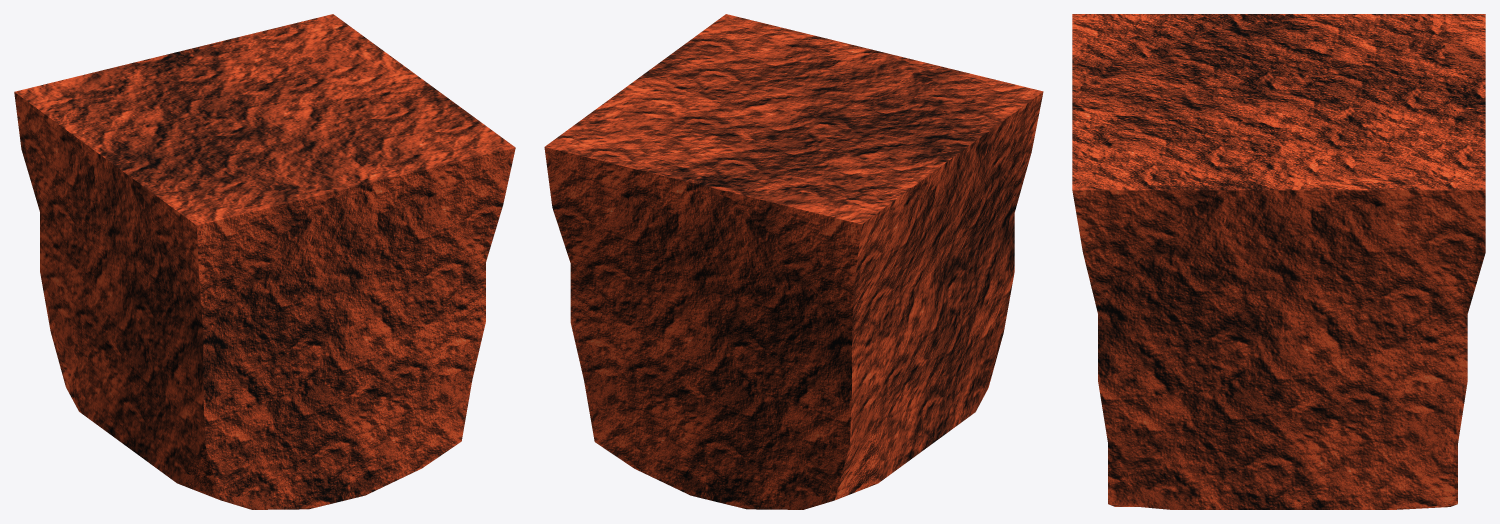
Rendered from spaceRockPlatform.fbx.
3 views of the same model, side by side, from view 1: azimuth 30°, elevation 25°; view 2: azimuth 150°, elevation 25°; view 3: azimuth 270°, elevation 25° (orthographic). The views are drawn at different scales.
Parts seen in each view (by area): view 1: pCube1; view 2: pCube1; view 3: pCube1.
Boxes of the visible parts, box(x1,y1,x2,y2) form: pCube1: box(14, 14, 515, 509); pCube1: box(544, 14, 1043, 509); pCube1: box(1072, 14, 1485, 509).
Bounding box in the file's own units: 3.5 × 3.46 × 3.47.
